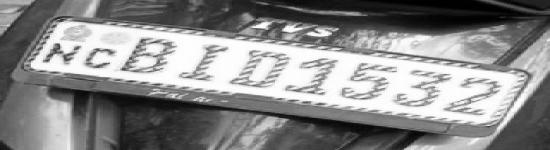1: (292, 56, 340, 95)
2: (445, 77, 507, 116)
3: (400, 67, 452, 113)
5: (343, 62, 398, 109)
B: (122, 36, 176, 74)
C: (84, 47, 117, 68)
D: (231, 48, 289, 90)
I: (180, 42, 230, 84)
N: (40, 41, 82, 66)
